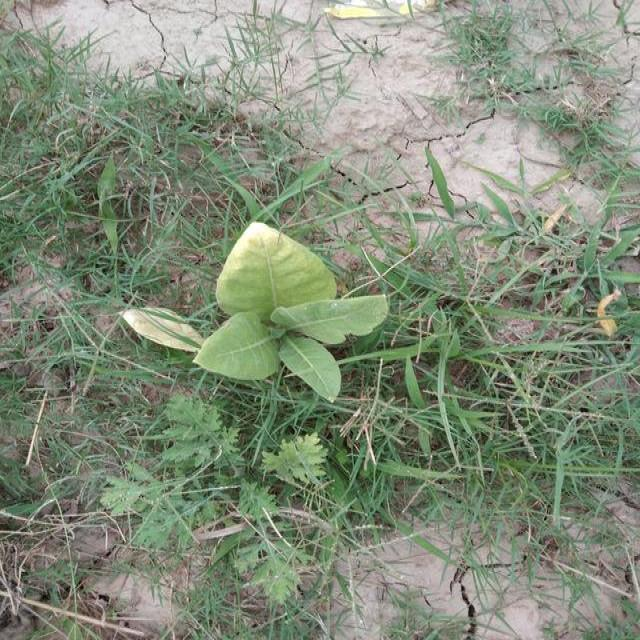crop: (106, 216, 401, 404)
